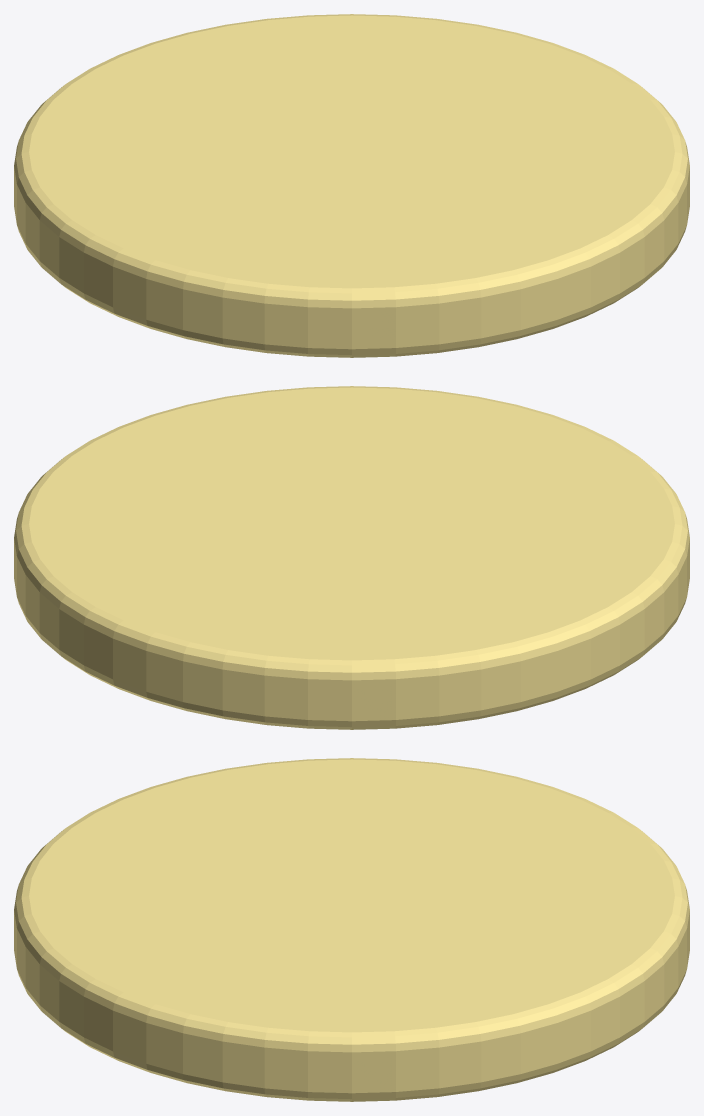
File: SM_UI_MomoIcon.glb
3 renders of one model, top to bottom at view 1: azimuth 30°, elevation 25°; view 2: azimuth 150°, elevation 25°; view 3: azimuth 270°, elevation 25°, orthographic.
Parts seen in each view (by area): view 1: SM_UI_MomoIcon; view 2: SM_UI_MomoIcon; view 3: SM_UI_MomoIcon.
Part boxes in pixels (box(x1,y1,x2,y2)): SM_UI_MomoIcon: box(14, 14, 689, 357); SM_UI_MomoIcon: box(14, 386, 689, 729); SM_UI_MomoIcon: box(14, 758, 689, 1101).
Size of the model in its own units: 0.9 by 0.1 by 0.9.
